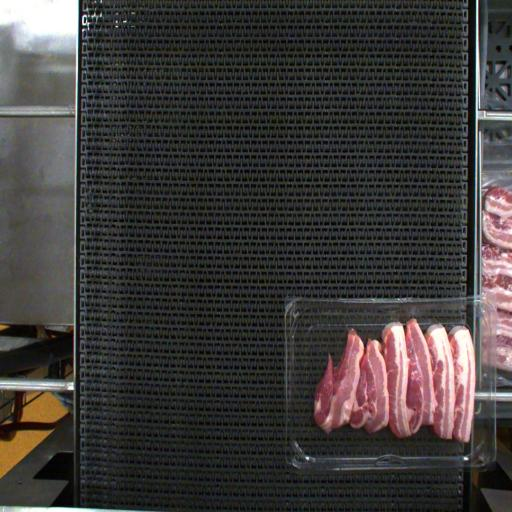packaging-error: (386, 307, 398, 325)
